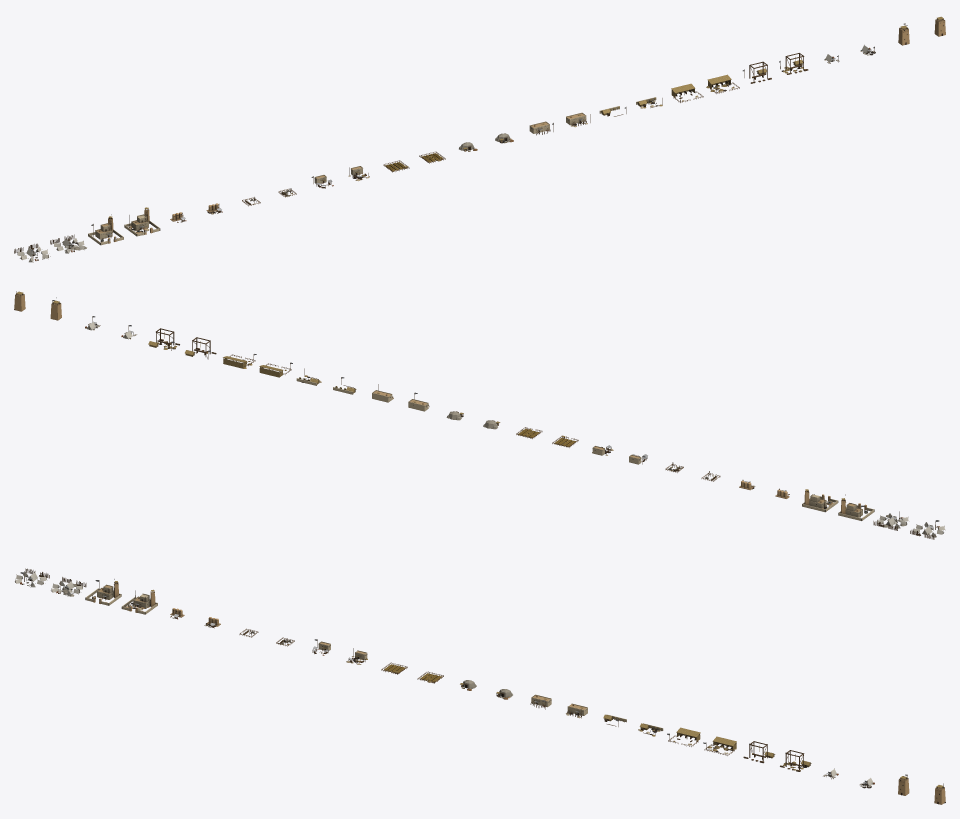
File: rts-bronze.glb
3 renders of one model, top to bottom at view 1: azimuth 30°, elevation 25°; view 2: azimuth 150°, elevation 25°; view 3: azimuth 330°, elevation 25°, orthographic.
Parts seen in each view (by area): view 1: no part large enough to name; view 2: no part large enough to name; view 3: LOD0.003.
Part boxes in pixels (x1,y1,x2,y2): LOD0.003: [121, 589, 157, 614].
Size of what is drawn, in the model's own units: 76.53 by 1.56 by 2.12.
2 materials, 2 textured.
